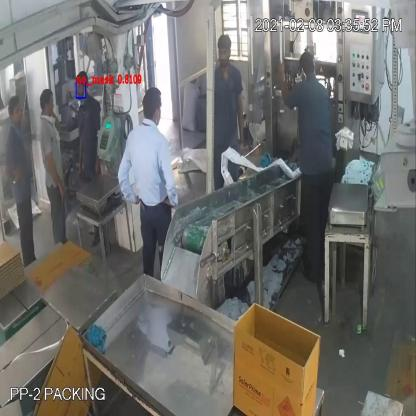no_glove: (112, 142, 141, 209), (153, 148, 180, 211), (44, 137, 68, 207), (232, 77, 247, 169), (3, 142, 26, 190), (275, 56, 292, 108)
